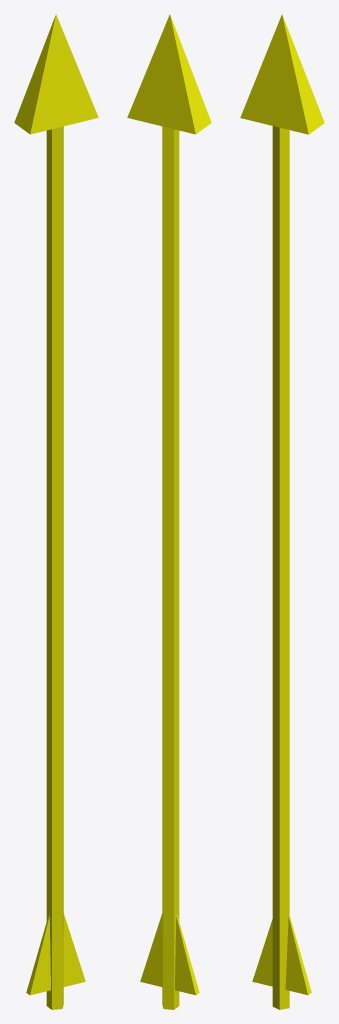
Rendered from _arrow_b_2.glb.
3 views of the same model, side by side, from view 1: azimuth 30°, elevation 25°; view 2: azimuth 150°, elevation 25°; view 3: azimuth 330°, elevation 25° (orthographic).
Visible parts, largest first — view 1: arrow_b_2; view 2: arrow_b_2; view 3: arrow_b_2.
Part boxes in pixels (left/top/right/bottom): arrow_b_2: left=14, top=14, right=98, bottom=1009; arrow_b_2: left=127, top=14, right=211, bottom=1009; arrow_b_2: left=240, top=14, right=324, bottom=1009.
Bounding box in the file's own units: 0.0457 × 0.6314 × 0.0184.
1 material, 1 textured.
